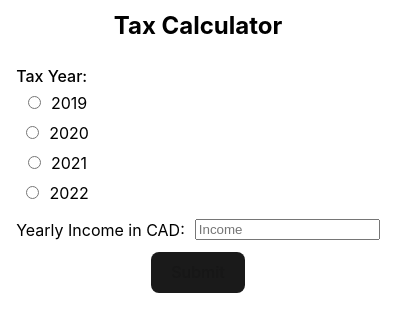
Test: Test Button Component › Cant Submit and Shows Error on Negative Income
The image size is (397, 329).
Type "-650000" into the number field with placeholder "Income".
click(287, 230); type("-650000")  # box [195,219,380,240]
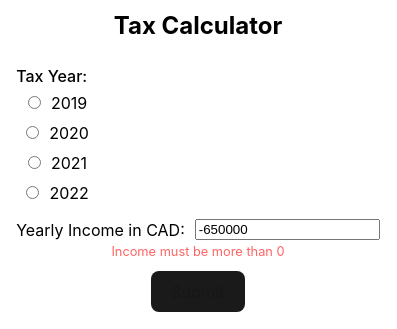
Expected: the button "Submit" is disabled, [151,271,245,312]
Expected: the text "Income must be more than 0" is shown, [111,242,285,261]
